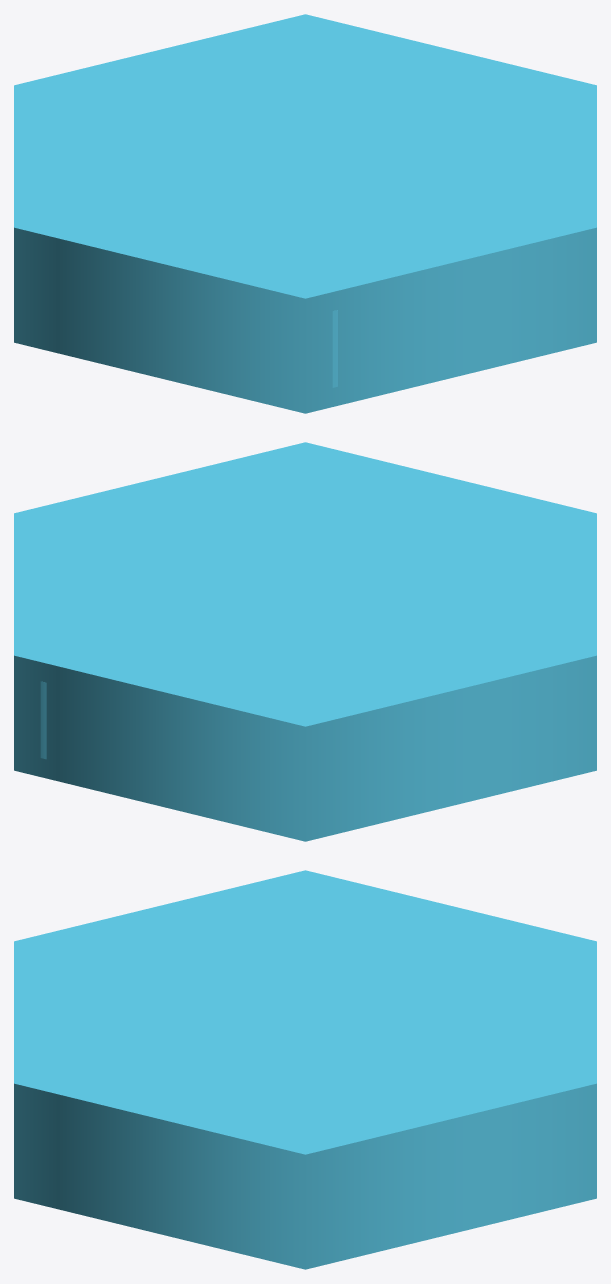
File: react.gltf
3 views of the same model, one above another, from view 1: azimuth 30°, elevation 25°; view 2: azimuth 150°, elevation 25°; view 3: azimuth 270°, elevation 25° (orthographic).
Visible parts, largest first — view 1: Cannon.002; view 2: Cannon.002, Curve.004; view 3: Cannon.002.
Boxes of the visible parts, box(x1,y1,x2,y2) form: Cannon.002: box(14, 14, 596, 413); Cannon.002: box(14, 442, 596, 841); Curve.004: box(40, 681, 46, 759); Cannon.002: box(14, 870, 596, 1269).
Size of the model in its own units: 0.6364 by 0.12 by 0.5513.
